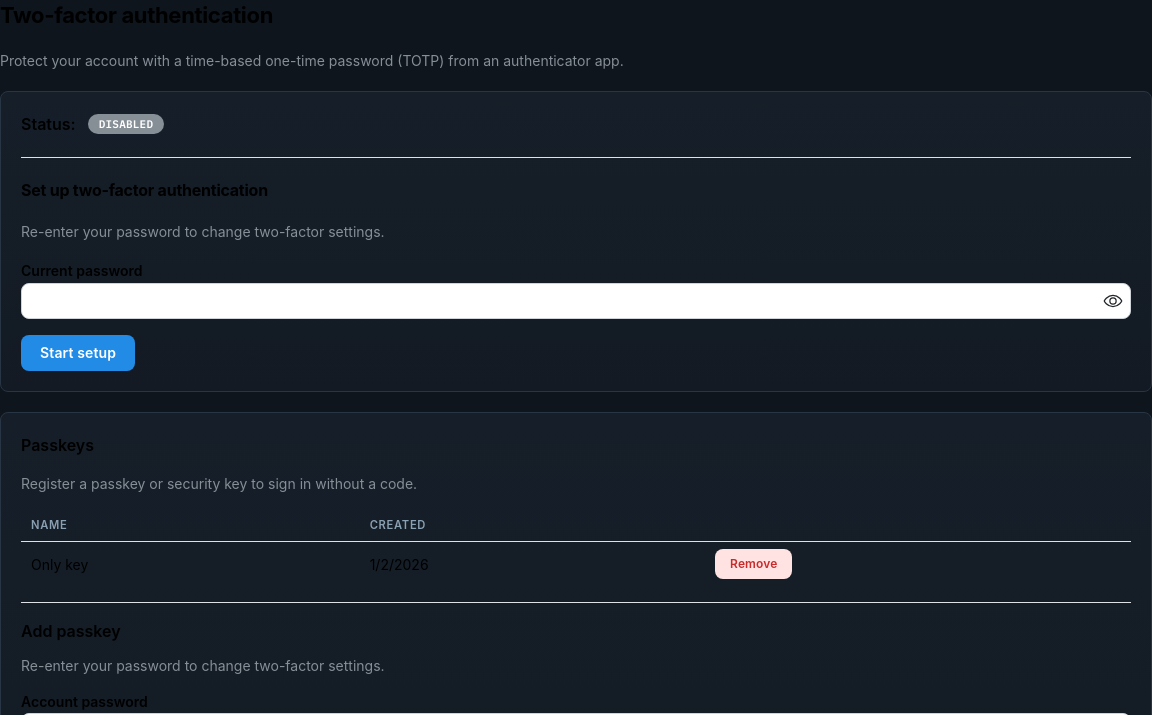
it: MfaPanel — passkeys (WebAuthn) › surfaces the last-factor guard (409) when removing a passkey
The image size is (1152, 715).
Expected: the row with test id "mfa-passkey-row-pk1" is shown, [21,542,1131,586]
Click the button with test id "mfa-passkey-remove-pk1" at (754, 564), box [715,549,792,579]
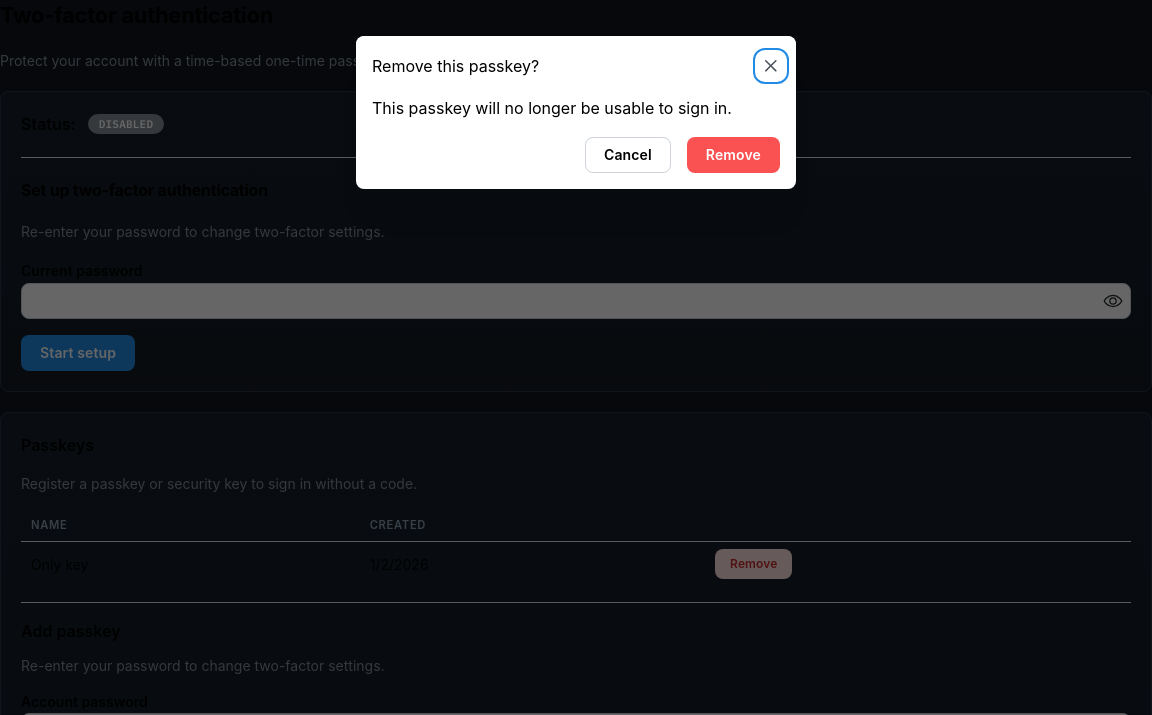
Click the button with test id "confirm-ok" at (733, 155), box [687,137,780,173]
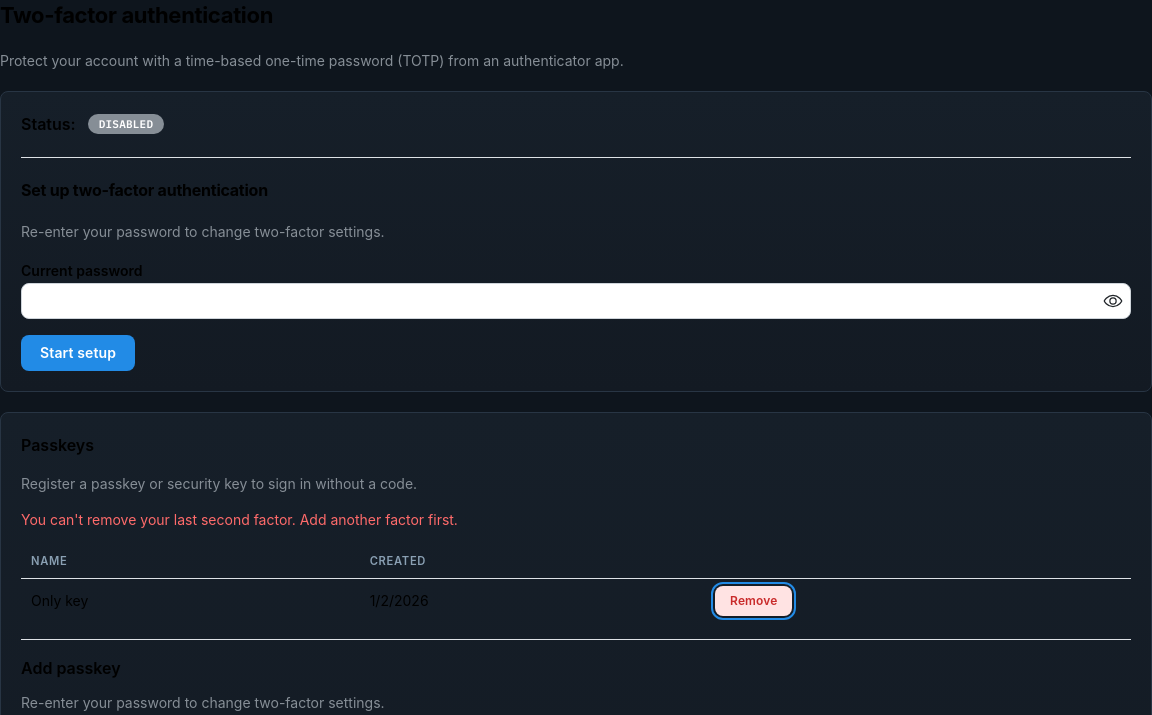
Expected: the message shows "last second factor", [21,511,458,528]
